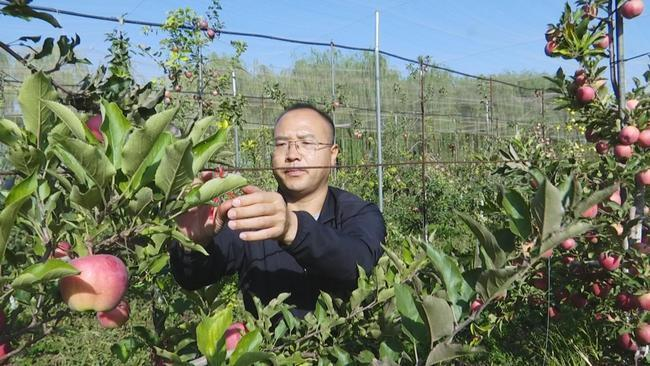apple: (57, 252, 129, 313), (599, 250, 622, 271), (620, 1, 645, 19), (617, 125, 639, 143), (576, 85, 595, 104), (614, 144, 632, 159)
